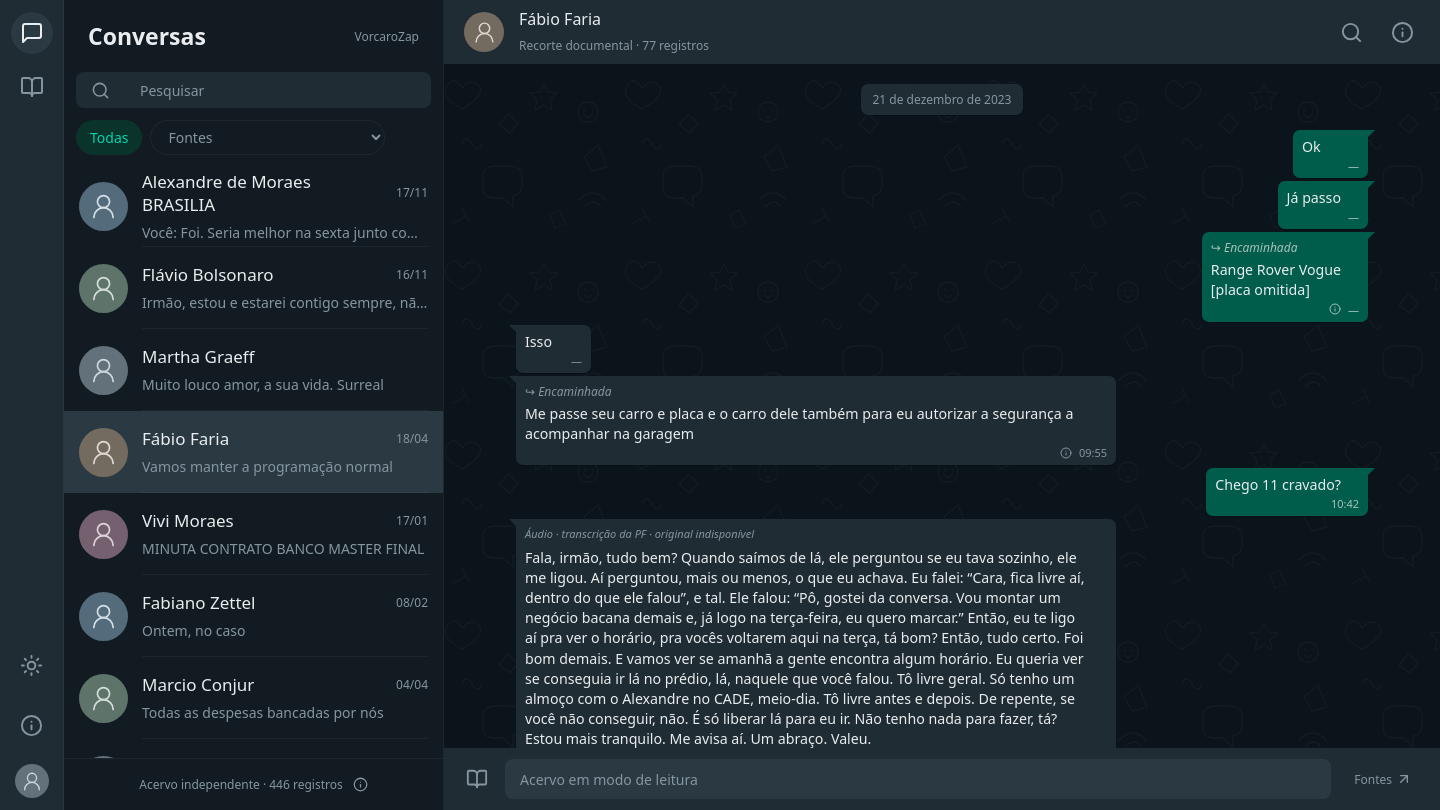
it: consulta e auditoria › mostra contexto do termo viral com fonte sem inventar balão
Type "peleleca" into the field named "Pesquisar conversas" at (277, 90), box [138,72,416,108]
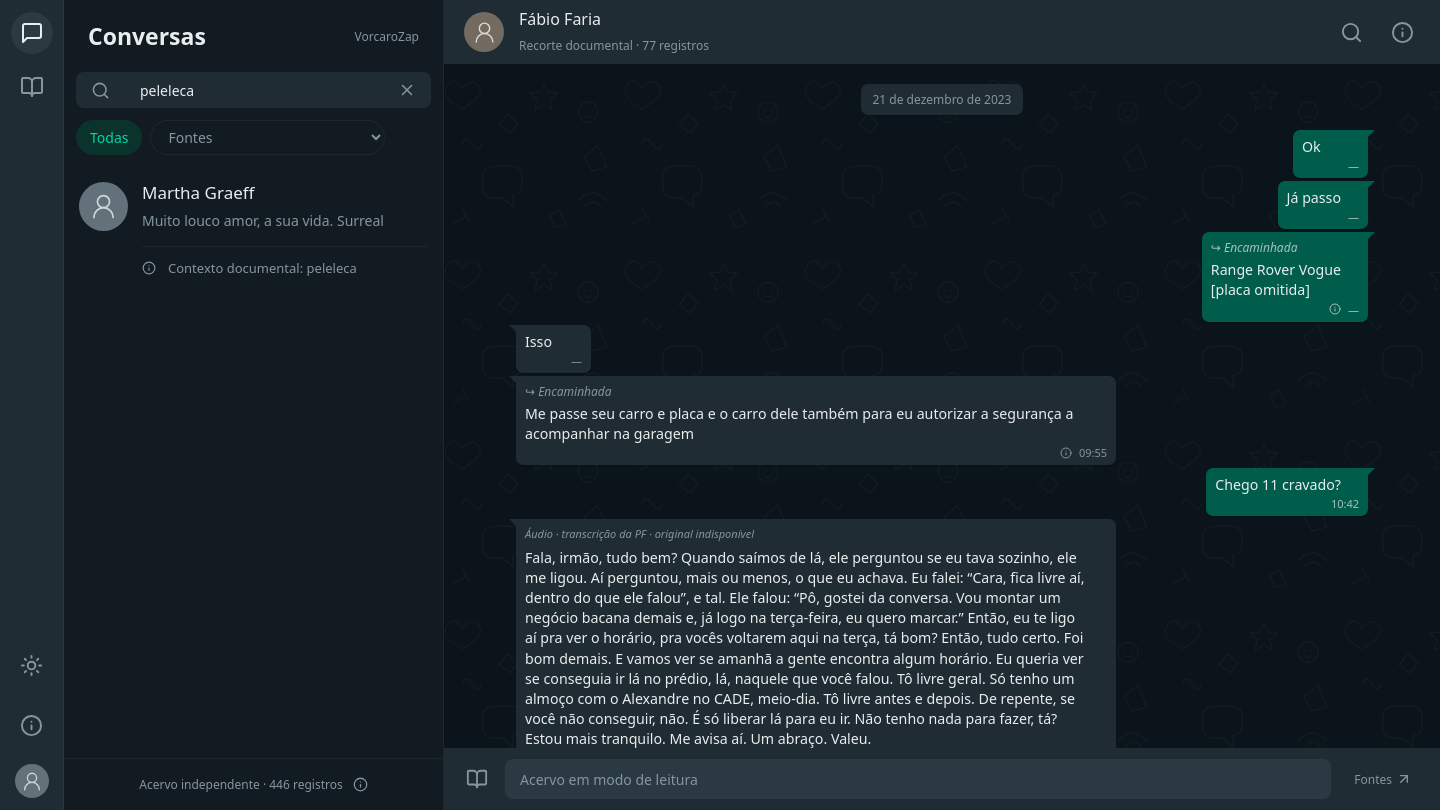
Click the button "Contexto documental: peleleca" at (254, 268), box [64,247,443,289]
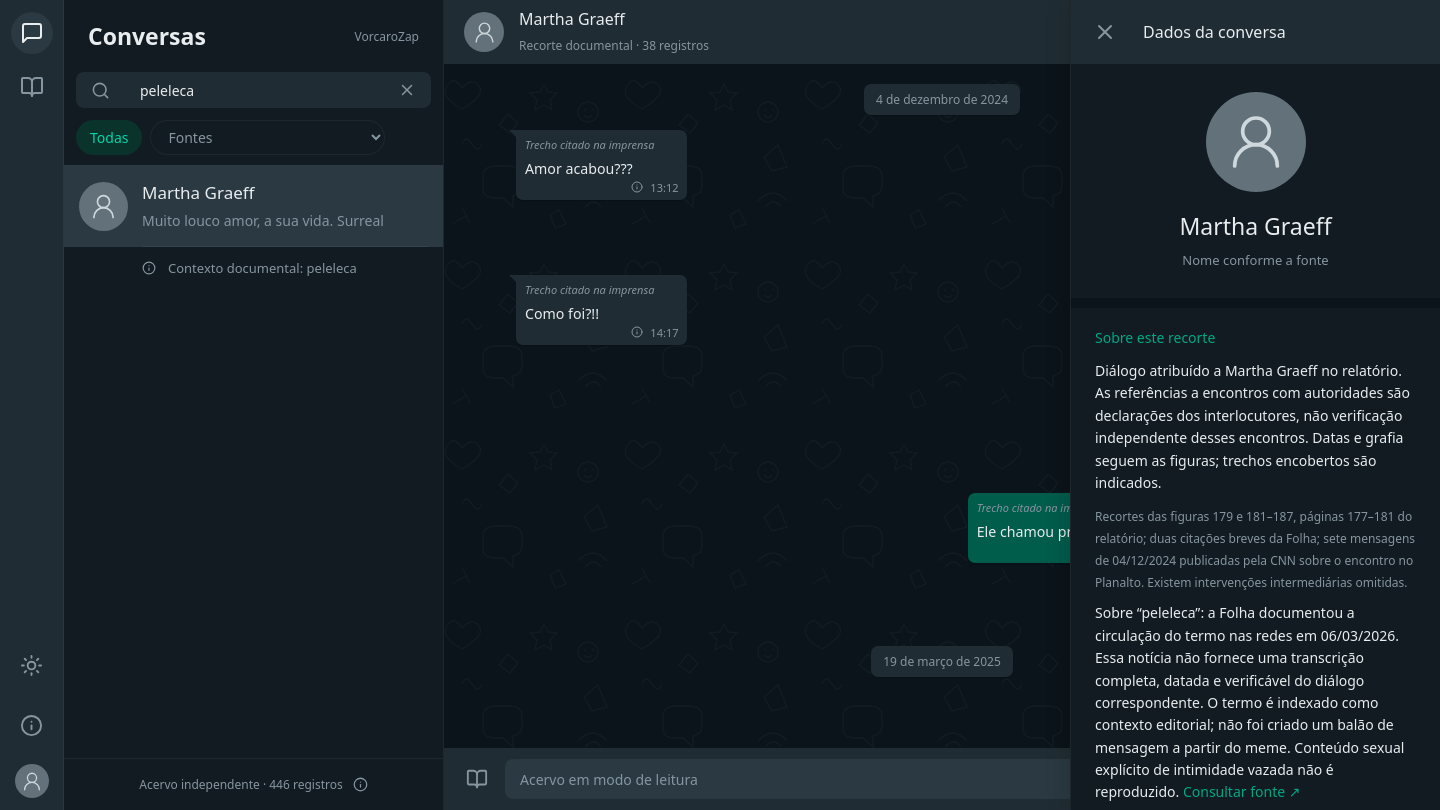
Check: the element named "Informações e fontes" is shown, box [1070,0,1439,809]
